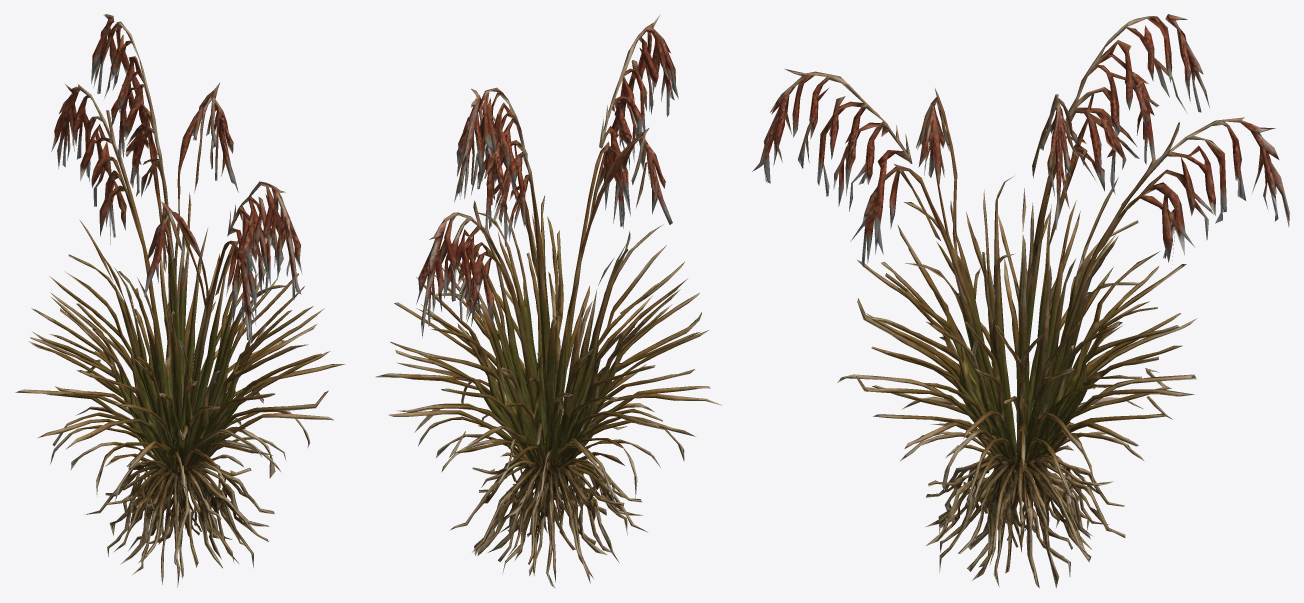
File: redgrass.glb
The picture shows the model from 3 angles, left to right: view 1: azimuth 30°, elevation 25°; view 2: azimuth 150°, elevation 25°; view 3: azimuth 270°, elevation 25°; orthographic projection. The views are drawn at different scales.
Parts seen in each view (by area): view 1: tripo_node_1b6928fb-f30c-48a4-9dc5-90f56c07977a; view 2: tripo_node_1b6928fb-f30c-48a4-9dc5-90f56c07977a; view 3: tripo_node_1b6928fb-f30c-48a4-9dc5-90f56c07977a.
Boxes of the visible parts, x1=… form: tripo_node_1b6928fb-f30c-48a4-9dc5-90f56c07977a: x1=15, y1=14, x2=345, y2=587; tripo_node_1b6928fb-f30c-48a4-9dc5-90f56c07977a: x1=375, y1=14, x2=722, y2=588; tripo_node_1b6928fb-f30c-48a4-9dc5-90f56c07977a: x1=752, y1=14, x2=1289, y2=588.
Bounding box in the file's own units: 0.6032 × 1 × 0.8817.
Materials: 1 (1 with a texture image).
